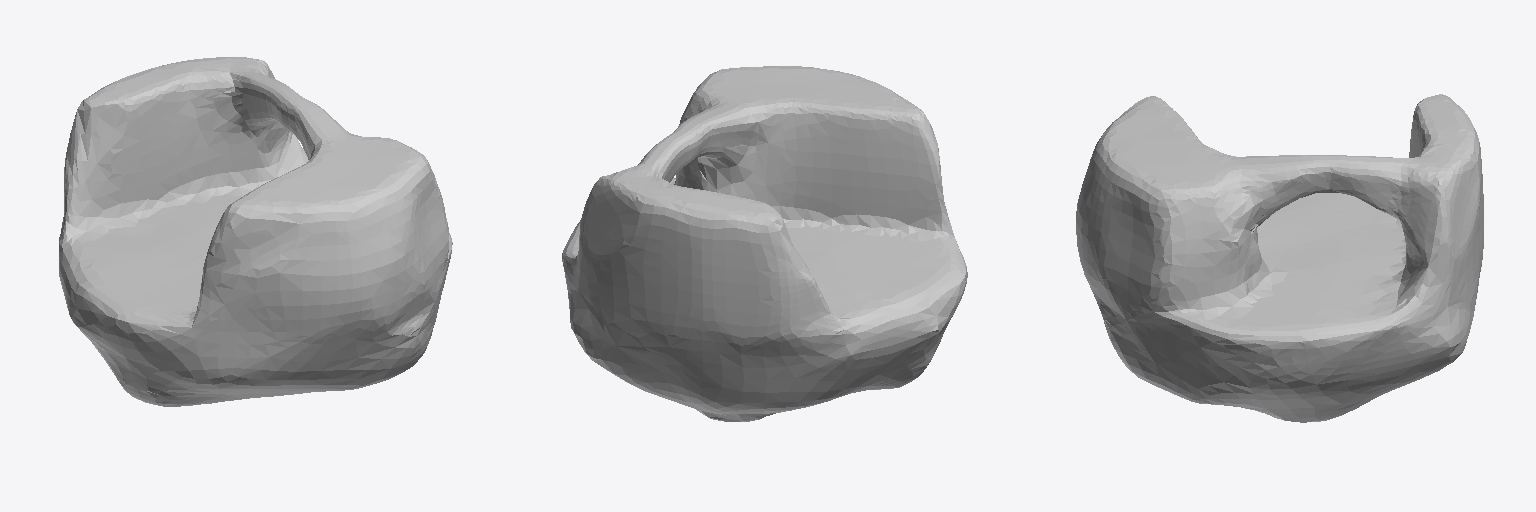
Rendered from island3.obj.
3 renders of one model, left to right at view 1: azimuth 30°, elevation 25°; view 2: azimuth 150°, elevation 25°; view 3: azimuth 270°, elevation 25°, orthographic.
Parts seen in each view (by area): view 1: F3:GeoDome1; view 2: F3:GeoDome1; view 3: F3:GeoDome1.
Part boxes in pixels (bbox=[...]): F3:GeoDome1: bbox=[59, 57, 452, 406]; F3:GeoDome1: bbox=[562, 66, 967, 421]; F3:GeoDome1: bbox=[1076, 94, 1483, 422].
Size of the model in its own units: 4.07 by 2.81 by 4.06.